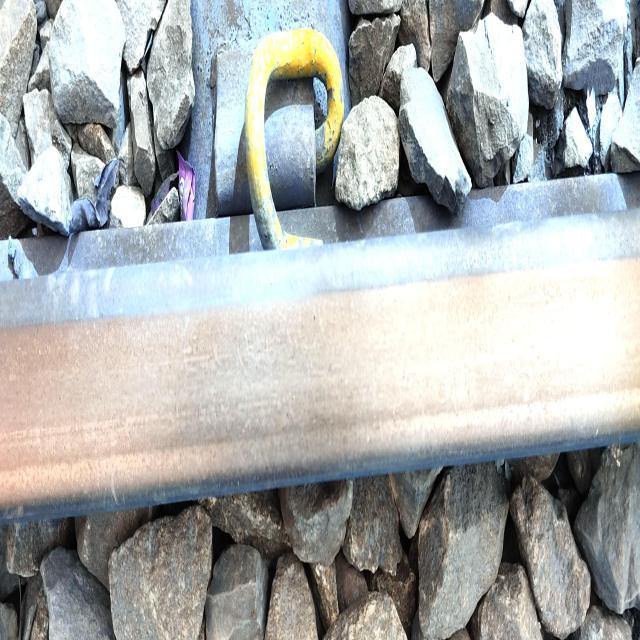Good Fasteners: (194, 22, 352, 272)
